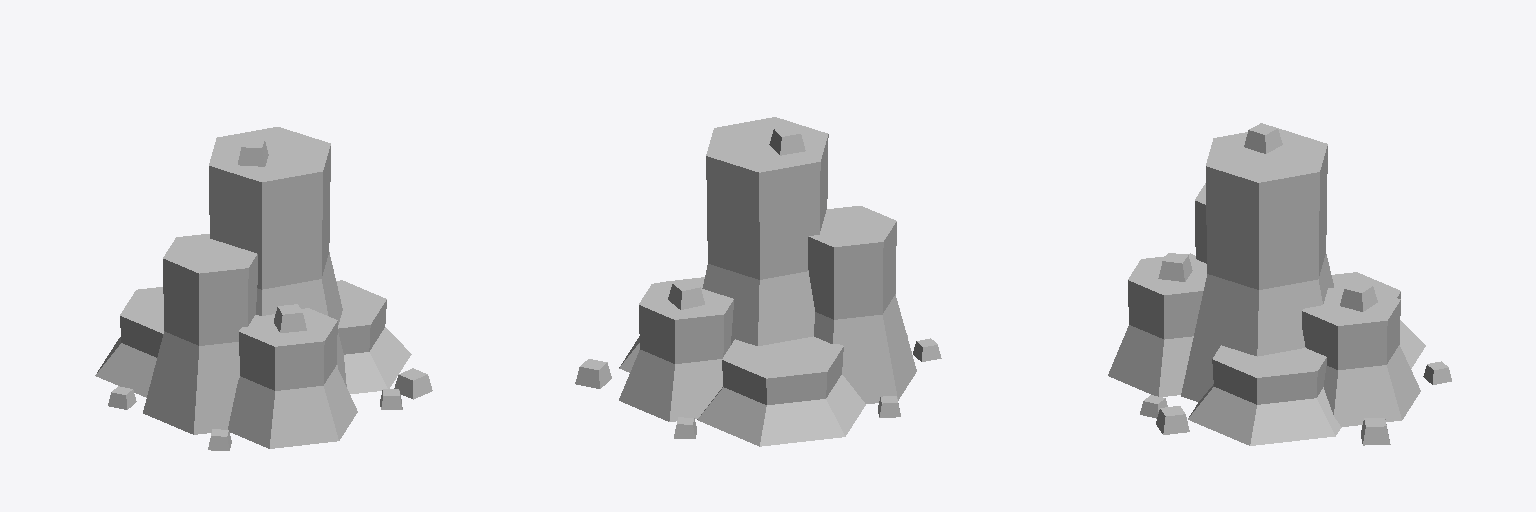
The model's file is rock2.obj.
3 views of the same model, side by side, from view 1: azimuth 30°, elevation 25°; view 2: azimuth 150°, elevation 25°; view 3: azimuth 270°, elevation 25° (orthographic).
Parts seen in each view (by area): view 1: rock2; view 2: rock2; view 3: rock2.
Part boxes in pixels (x1,y1,x2,y2): rock2: (95, 127, 432, 450); rock2: (575, 117, 941, 446); rock2: (1108, 123, 1451, 445).
Size of the model in its own units: 4.44 by 3.65 by 4.7.